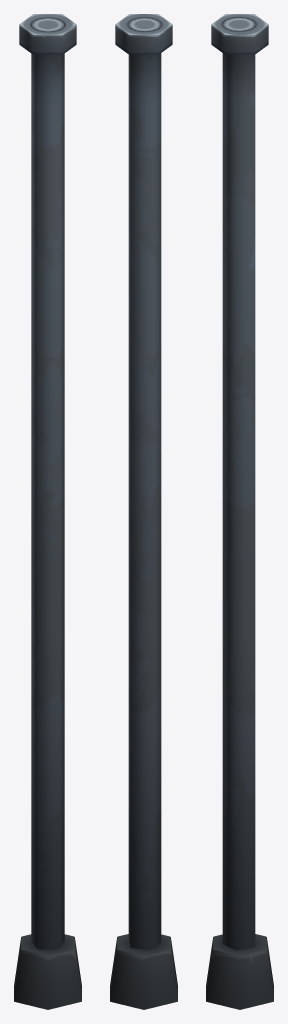
File: Streetlight1A.fbx
3 views of the same model, side by side, from view 1: azimuth 90°, elevation 25°; view 2: azimuth 150°, elevation 25°; view 3: azimuth 330°, elevation 25° (orthographic).
Parts seen in each view (by area): view 1: polySurface132; view 2: polySurface132; view 3: polySurface132.
Part boxes in pixels (<box>): polySurface132: <box>14,14,81,1009</box>; polySurface132: <box>110,14,177,1009</box>; polySurface132: <box>206,14,273,1009</box>.
Size of the model in its own units: 0.6404 by 8.74 by 0.5546.
